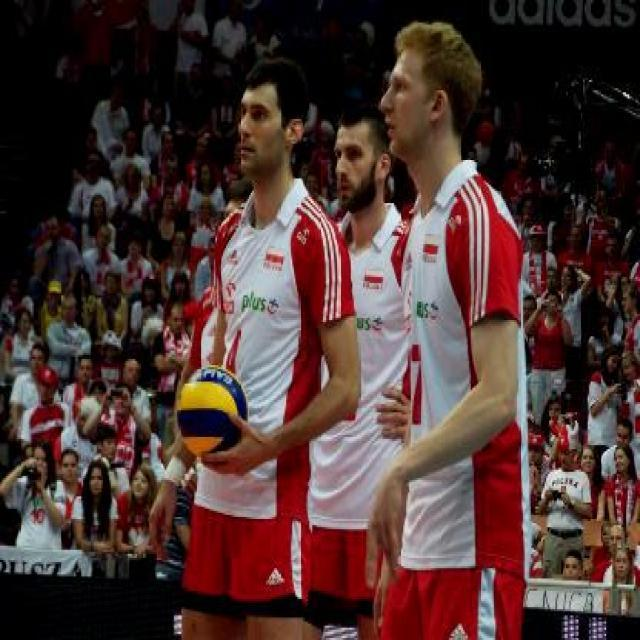volleyball: (178, 368, 246, 455)
